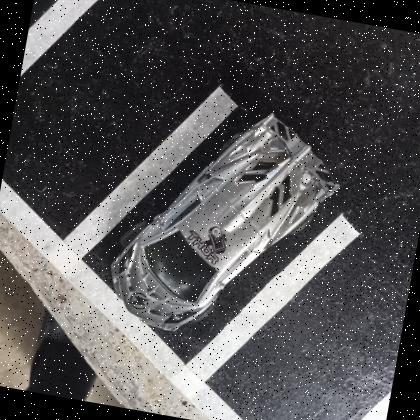Car: (112, 113, 340, 333)
